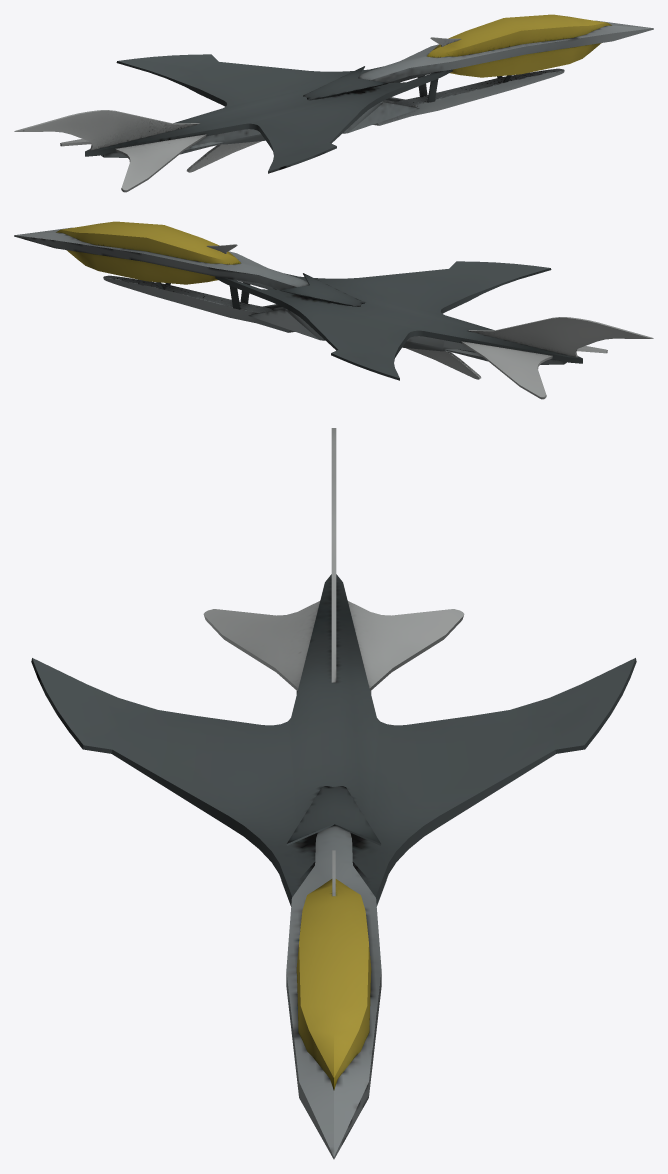
The model's file is playership.fbx.
3 views of the same model, one above another, from view 1: azimuth 30°, elevation 25°; view 2: azimuth 150°, elevation 25°; view 3: azimuth 270°, elevation 25° (orthographic). The views are drawn at different scales.
Parts seen in each view (by area): view 1: Cube.007; view 2: Cube.007; view 3: Cube.007.
Part boxes in pixels (<box>): Cube.007: <box>14,14,653,192</box>; Cube.007: <box>14,221,653,399</box>; Cube.007: <box>31,428,636,1159</box>.
Size of the model in its own units: 316 by 770 by 97.99.
